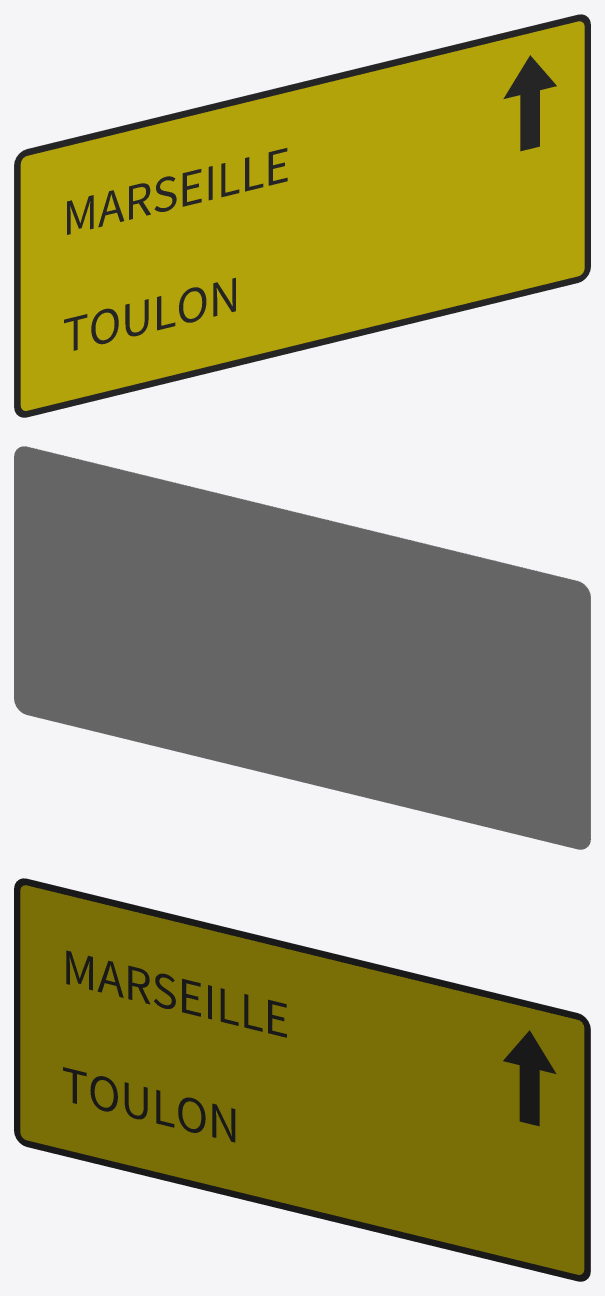
The picture shows the model from 3 angles, top to bottom: view 1: azimuth 30°, elevation 25°; view 2: azimuth 150°, elevation 25°; view 3: azimuth 330°, elevation 25°; orthographic projection.
Visible parts, largest first — view 1: KD43c_fond01, KD43c_cadre00, KD43c_txt03, KD43c_fl02, KD43c_txt04, KD43c_dos; view 2: KD43c_dos; view 3: KD43c_fond01, KD43c_cadre00, KD43c_txt03, KD43c_fl02, KD43c_txt04, KD43c_dos.
Part boxes in pixels (x1,y1,x2,y2): KD43c_fond01: (20, 21, 584, 410); KD43c_cadre00: (14, 14, 590, 417); KD43c_txt03: (67, 148, 287, 234); KD43c_fl02: (503, 55, 556, 151); KD43c_txt04: (64, 277, 235, 350); KD43c_dos: (14, 14, 580, 409); KD43c_dos: (14, 446, 590, 849); KD43c_fond01: (20, 885, 584, 1274); KD43c_cadre00: (14, 878, 590, 1281); KD43c_txt03: (66, 950, 286, 1037); KD43c_fl02: (503, 1030, 556, 1126); KD43c_txt04: (63, 1067, 235, 1142); KD43c_dos: (24, 878, 590, 1273).
Size of the model in its own units: 1.8 by 0.8 by 0.0033.
